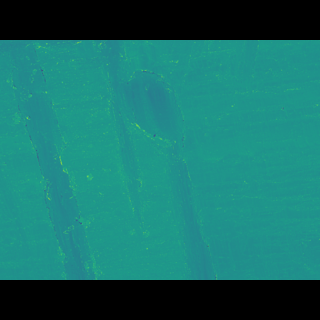Loch: (73, 69, 319, 249), (0, 70, 112, 249)
